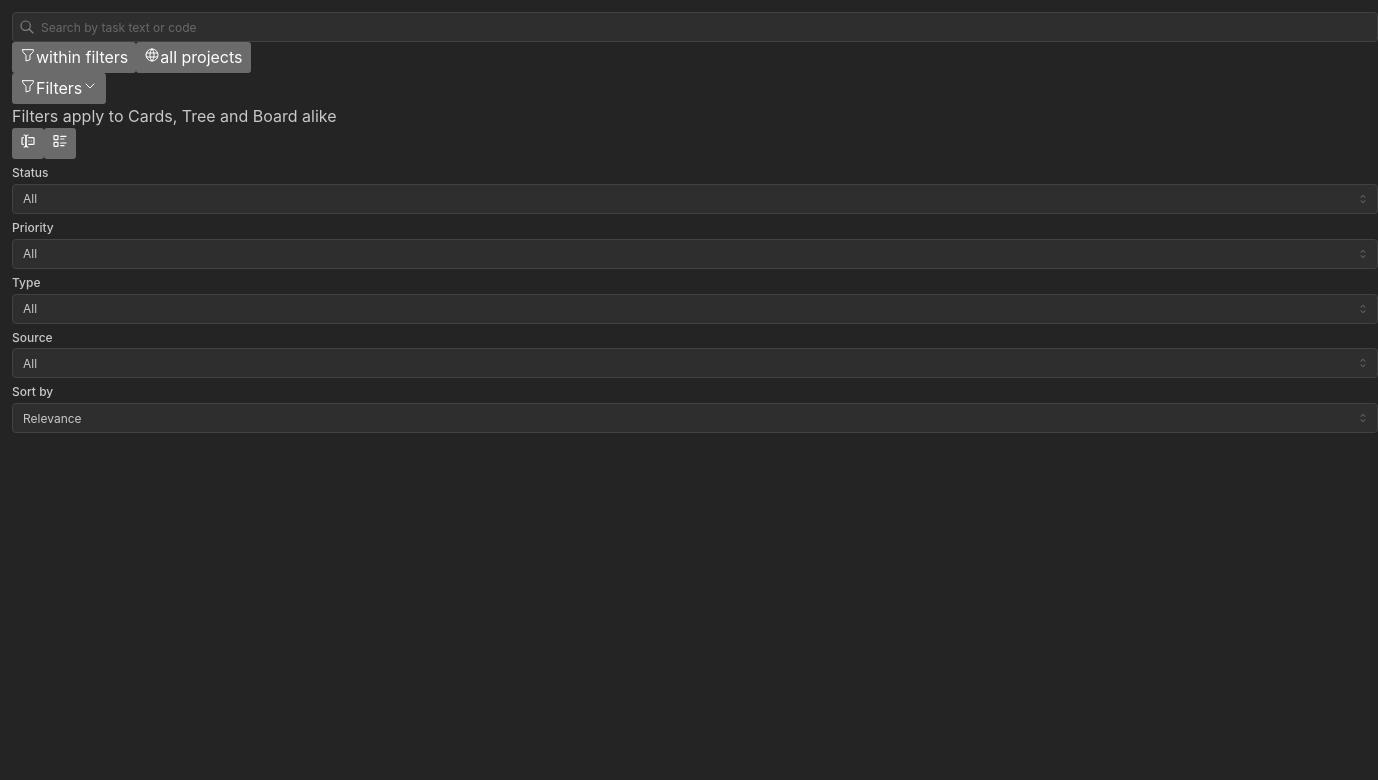
Test case: TaskFilters — sk-50 Relevance sort option (search-only) › Relevance option appears in the combobox while searching
Click the field labelled "Sort by".
click(695, 418)  # box left=12, top=403, right=1377, bottom=433
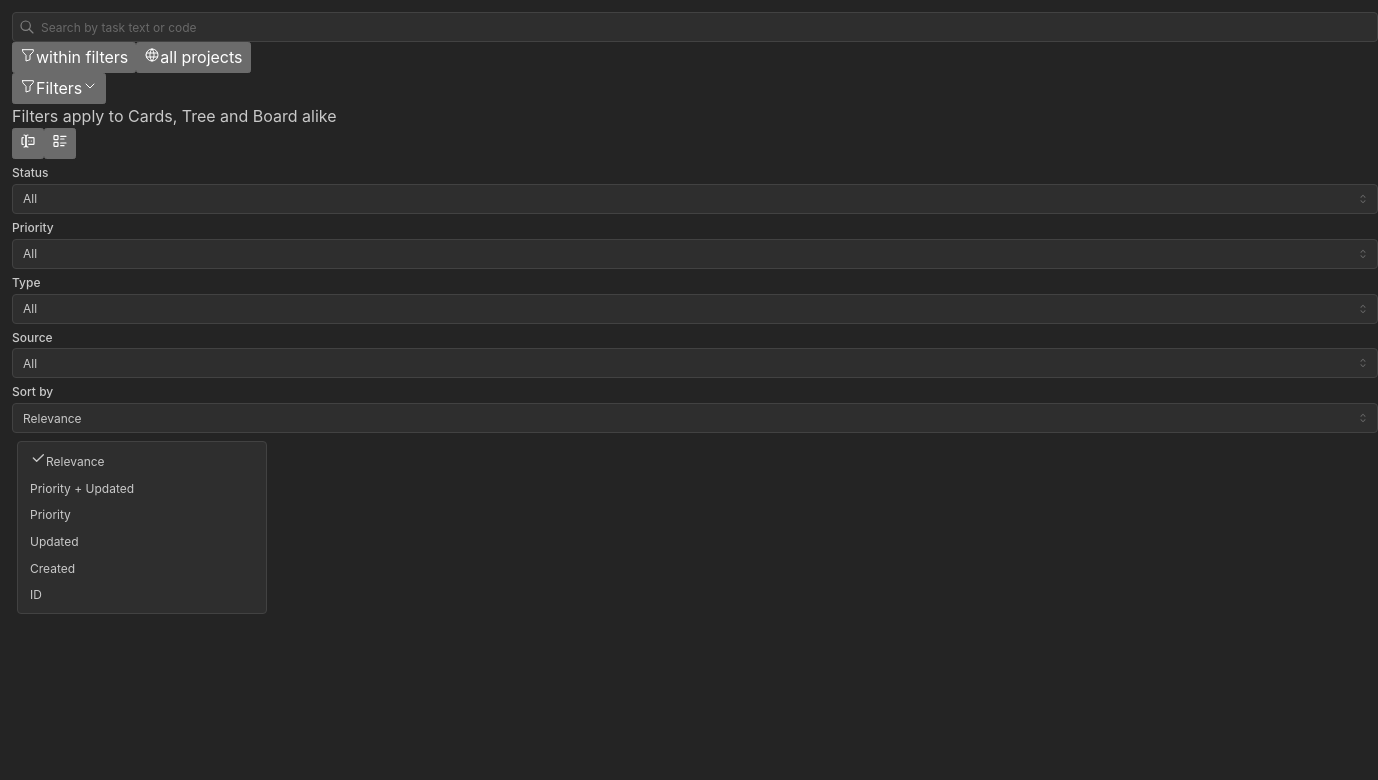
Now the option "Relevance" is shown, box left=30, top=450, right=105, bottom=469
Now the option "Priority" is shown, box left=30, top=507, right=71, bottom=522
